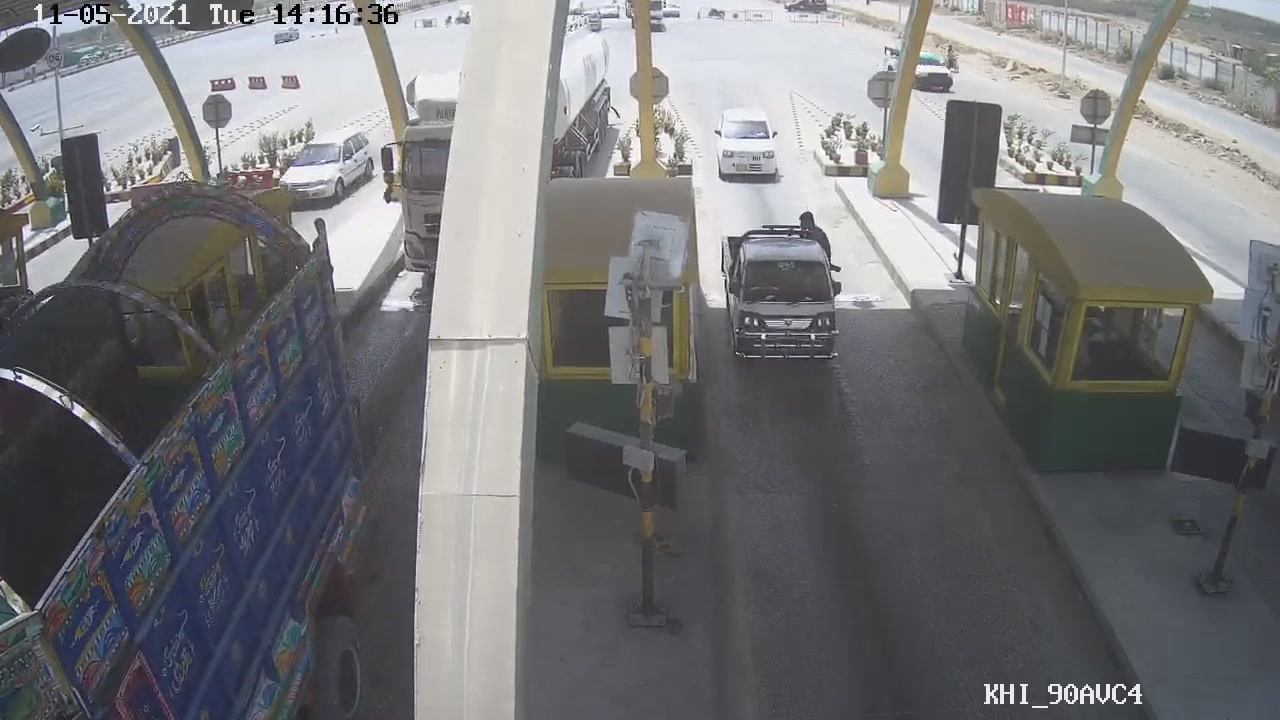F1: (707, 218, 856, 381)
